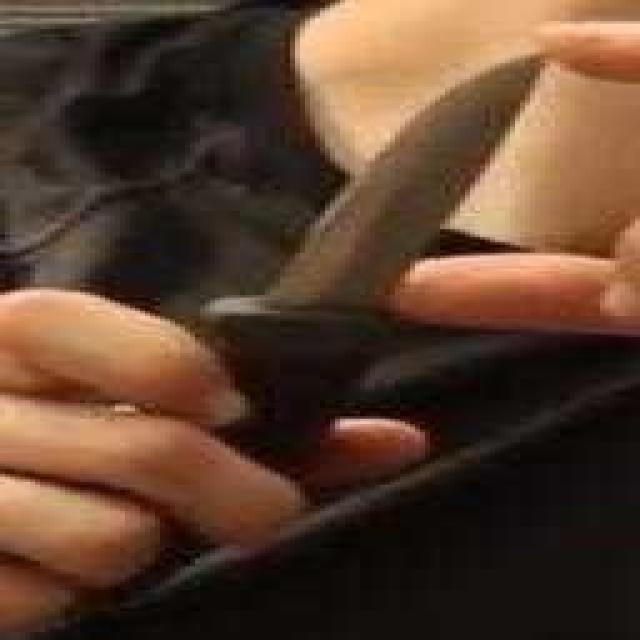Knife: (137, 47, 576, 519)
